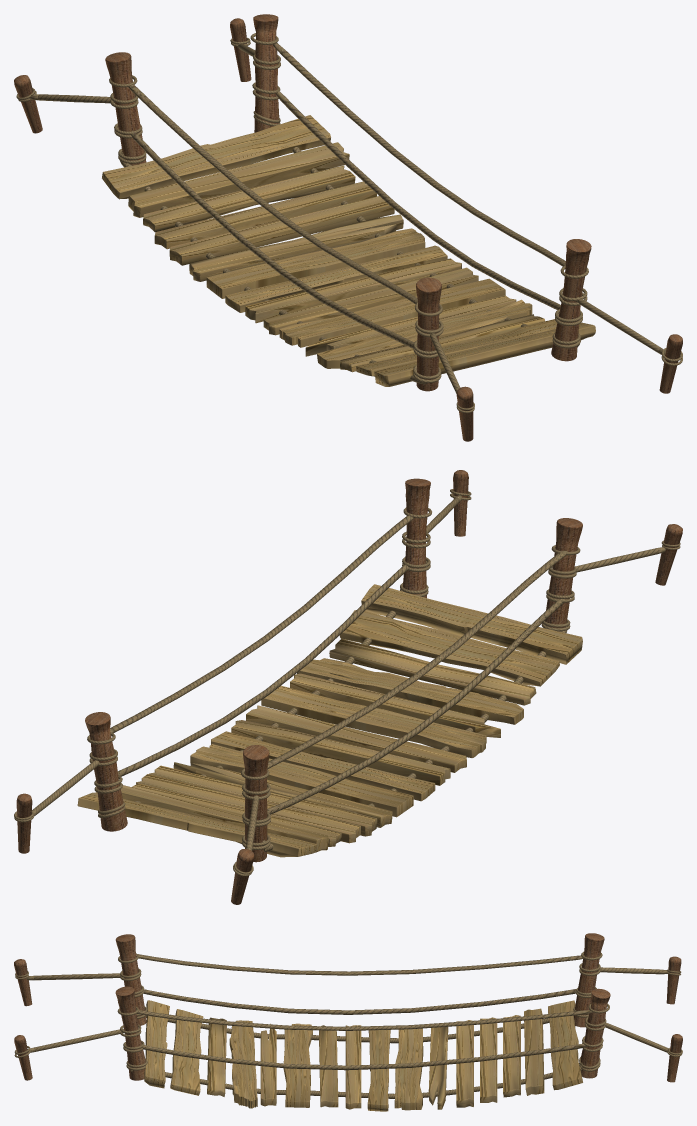
File: bridge.glb
The picture shows the model from 3 angles, top to bottom: view 1: azimuth 30°, elevation 25°; view 2: azimuth 150°, elevation 25°; view 3: azimuth 270°, elevation 25°; orthographic projection. The views are drawn at different scales.
Parts seen in each view (by area): view 1: Bridge; view 2: Bridge; view 3: Bridge.
Boxes of the visible parts, box(x1,y1,x2,y2) form: Bridge: box(14, 14, 682, 441); Bridge: box(14, 470, 682, 904); Bridge: box(14, 933, 682, 1111).
Size of the model in its own units: 11.84 by 6.97 by 38.18.
Materials: 3 (3 with a texture image).
